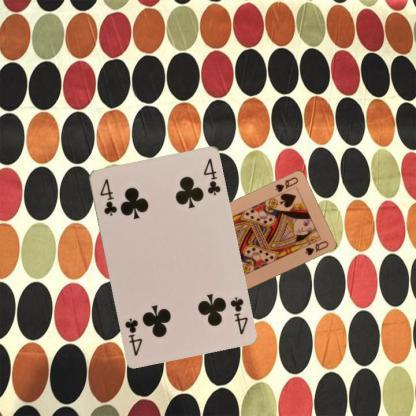4c: (227, 294, 249, 336), (98, 176, 119, 217)
Qs: (272, 174, 300, 193)
